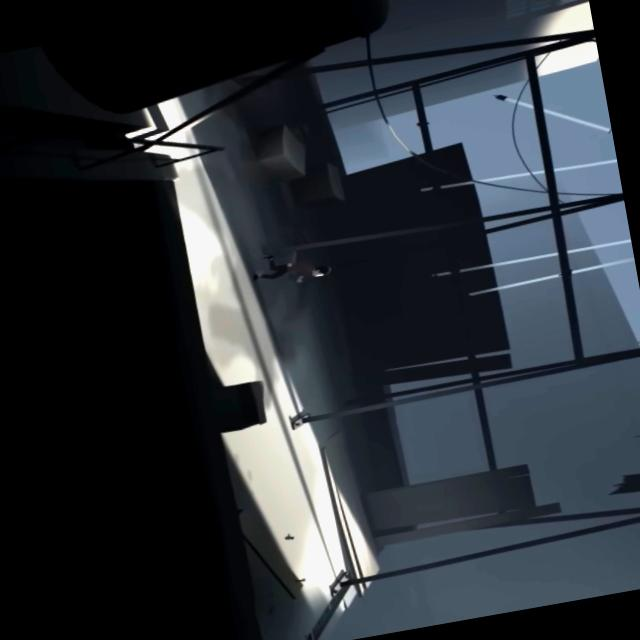boy: (248, 245, 332, 289)
